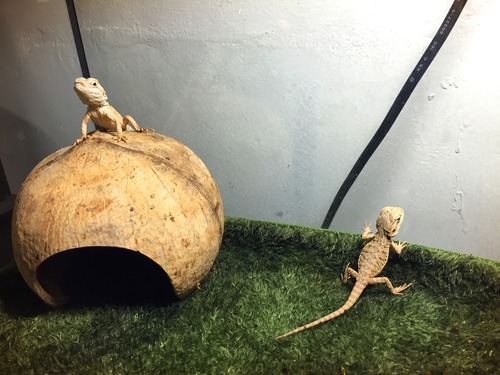bearded: (275, 205, 414, 341), (70, 74, 153, 146)
